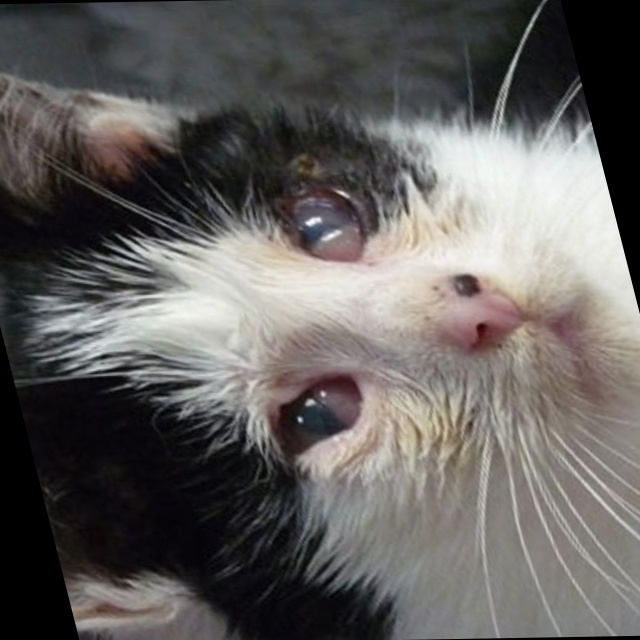eye_infection: (248, 366, 383, 465), (272, 171, 386, 268)
